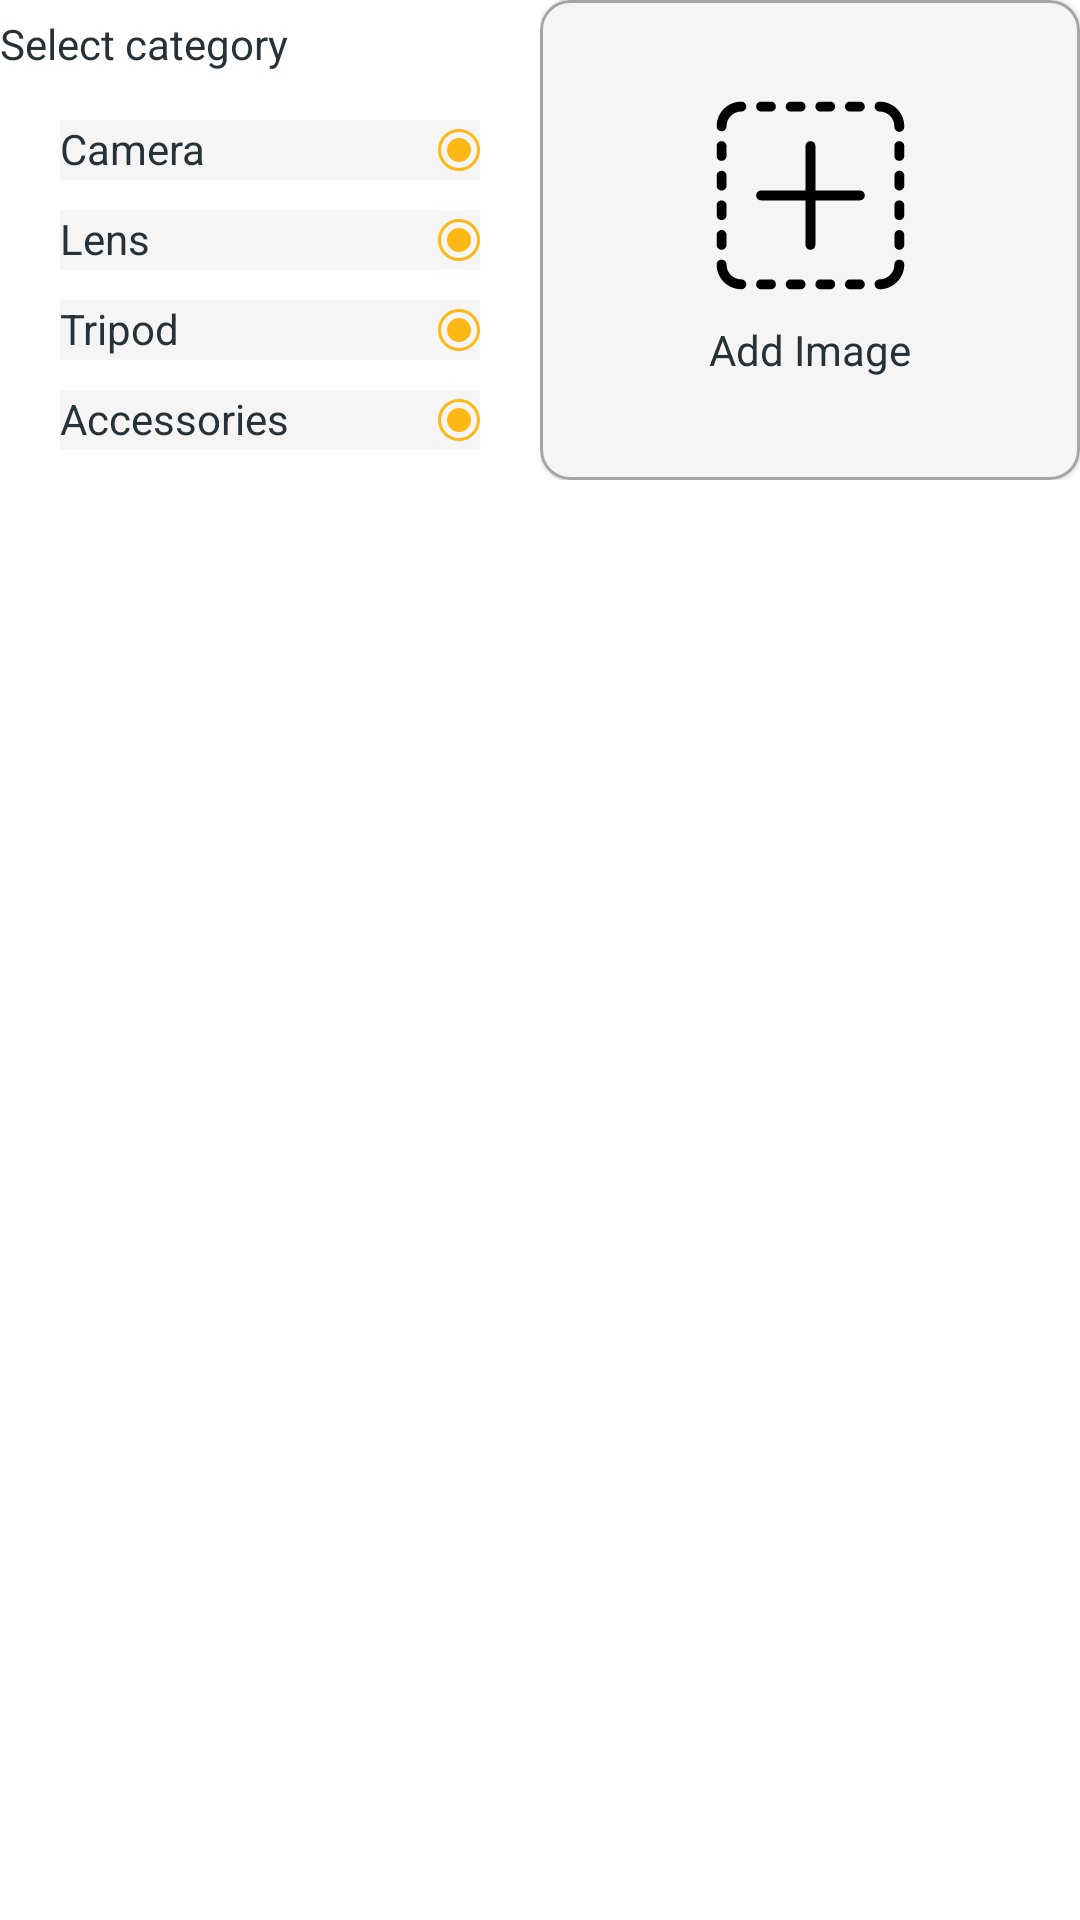

Named icons in this screenshot (1080*1920) and their bounding boxes, bbox(x1, y1, x2, y2):
radio: bbox(438, 129, 480, 171), bbox(438, 219, 480, 261), bbox(438, 309, 480, 351), bbox(438, 399, 480, 441)
